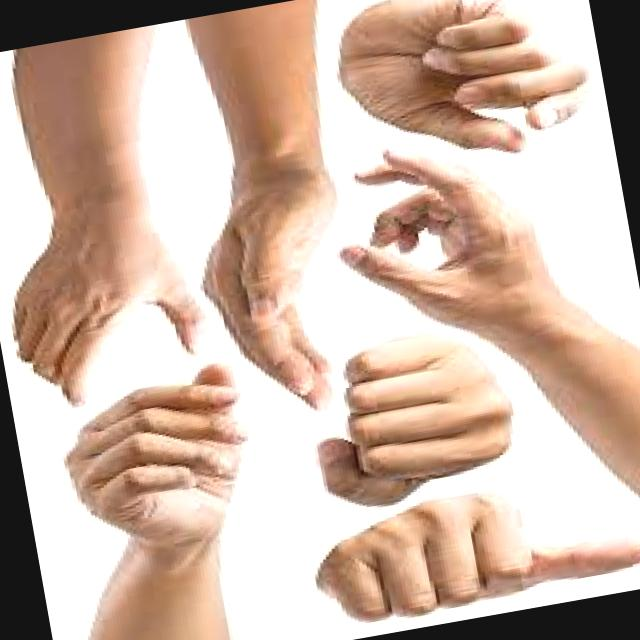Hand: (318, 116, 590, 347), (298, 460, 640, 638), (174, 169, 384, 433), (324, 0, 605, 182), (296, 315, 544, 519), (42, 358, 273, 565), (0, 216, 224, 422)
